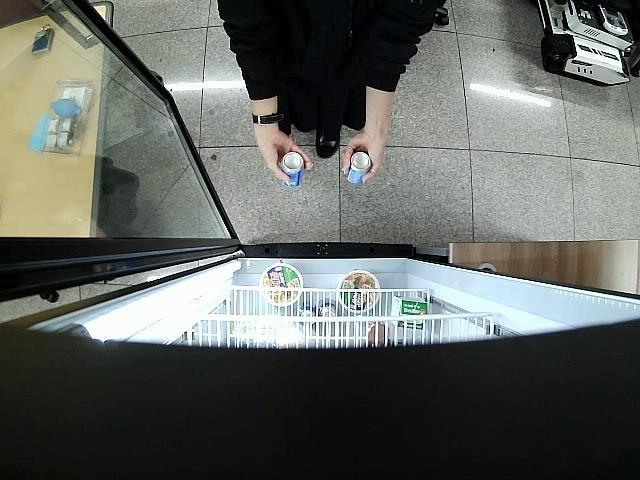15_letsbe: (280, 150, 304, 188), (347, 150, 372, 186)
